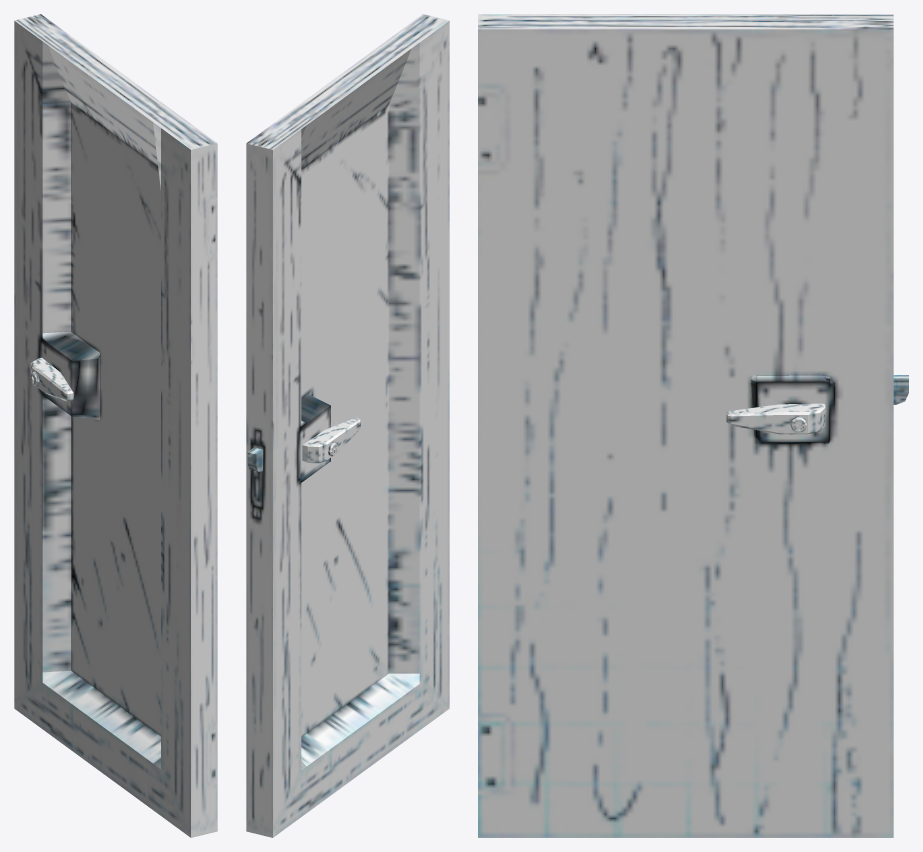
Rendered from Door_1.fbx.
The picture shows the model from 3 angles, left to right: view 1: azimuth 30°, elevation 25°; view 2: azimuth 150°, elevation 25°; view 3: azimuth 270°, elevation 25°; orthographic projection. The views are drawn at different scales.
Parts seen in each view (by area): view 1: Door; view 2: Door; view 3: Door.
Part boxes in pixels (<box>): Door: <box>14,14,217,837</box>; Door: <box>246,14,449,837</box>; Door: <box>478,14,908,837</box>.
Size of the model in its own units: 22.6 by 199 by 95.91.
